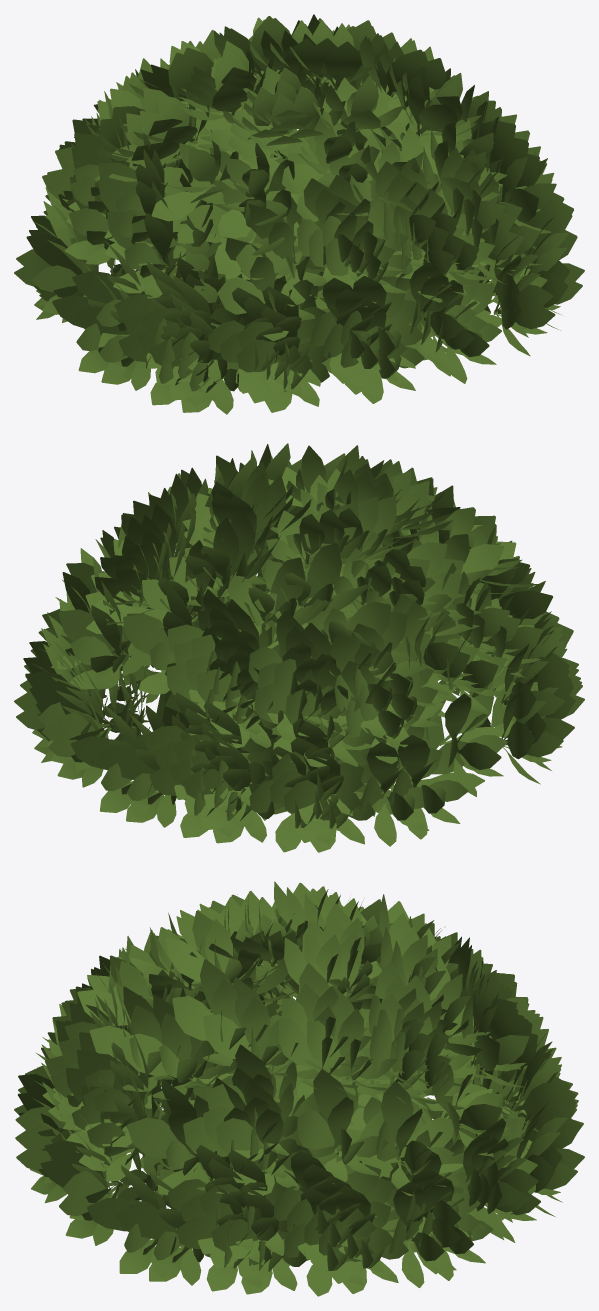
The picture shows the model from 3 angles, top to bottom: view 1: azimuth 30°, elevation 25°; view 2: azimuth 150°, elevation 25°; view 3: azimuth 270°, elevation 25°; orthographic projection. The views are drawn at different scales.
Visible parts, largest first — view 1: B1_LOD00; view 2: B1_LOD00; view 3: B1_LOD00.
Boxes of the visible parts, x1,y1,x2,y2 form: B1_LOD00: (14,14,584,414); B1_LOD00: (14,443,584,852); B1_LOD00: (14,881,584,1296).
Size of what is drawn, in the model's own units: 5.14 by 2.73 by 5.11.
